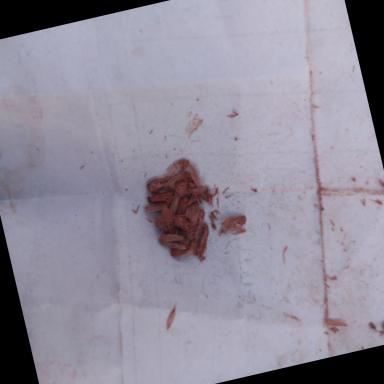pbw: (216, 210, 250, 238), (146, 188, 177, 211), (158, 230, 186, 254), (192, 225, 213, 256), (158, 206, 176, 236), (172, 177, 196, 199), (191, 207, 209, 236), (172, 212, 194, 234), (170, 238, 194, 258), (168, 157, 192, 176), (166, 190, 184, 214), (187, 161, 202, 189), (162, 170, 188, 186), (144, 178, 168, 195), (372, 313, 384, 345), (185, 199, 201, 219), (190, 184, 209, 199), (144, 200, 166, 212), (184, 228, 196, 236)
